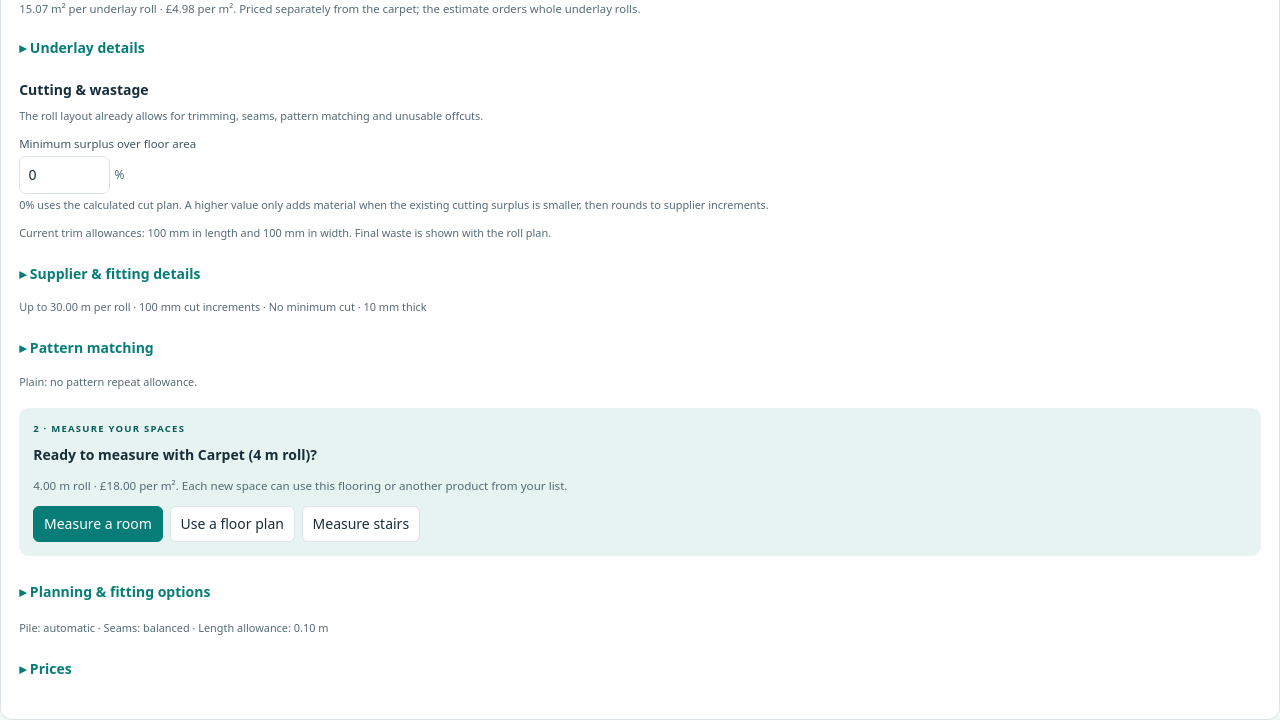
MaterialsPanel › lists the products from the store with their supply and price
(page scrolled)
Click the button "▸ Planning & fitting options": point(115, 591) left=19, top=573, right=210, bottom=609
(page scrolled)
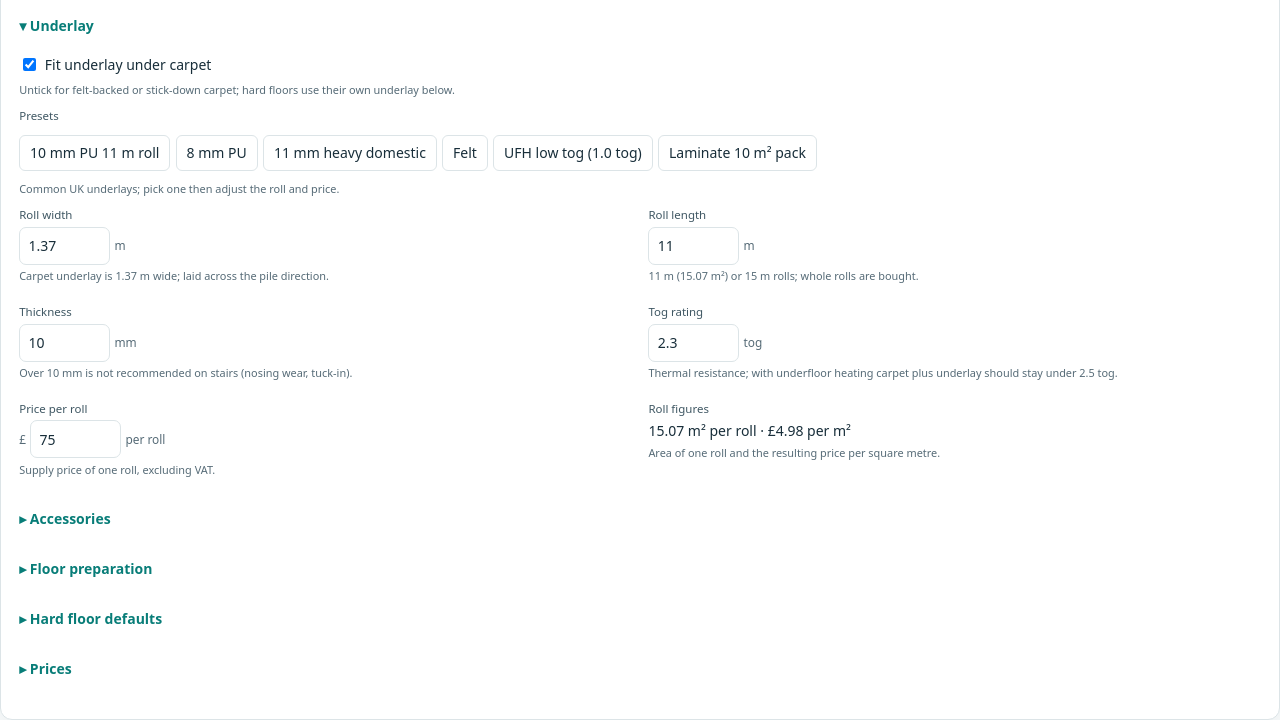
Expected: the button "▸ Prices" is shown, left=19, top=651, right=72, bottom=687
Result: the button "▾ Underlay" is shown at left=19, top=8, right=94, bottom=44
